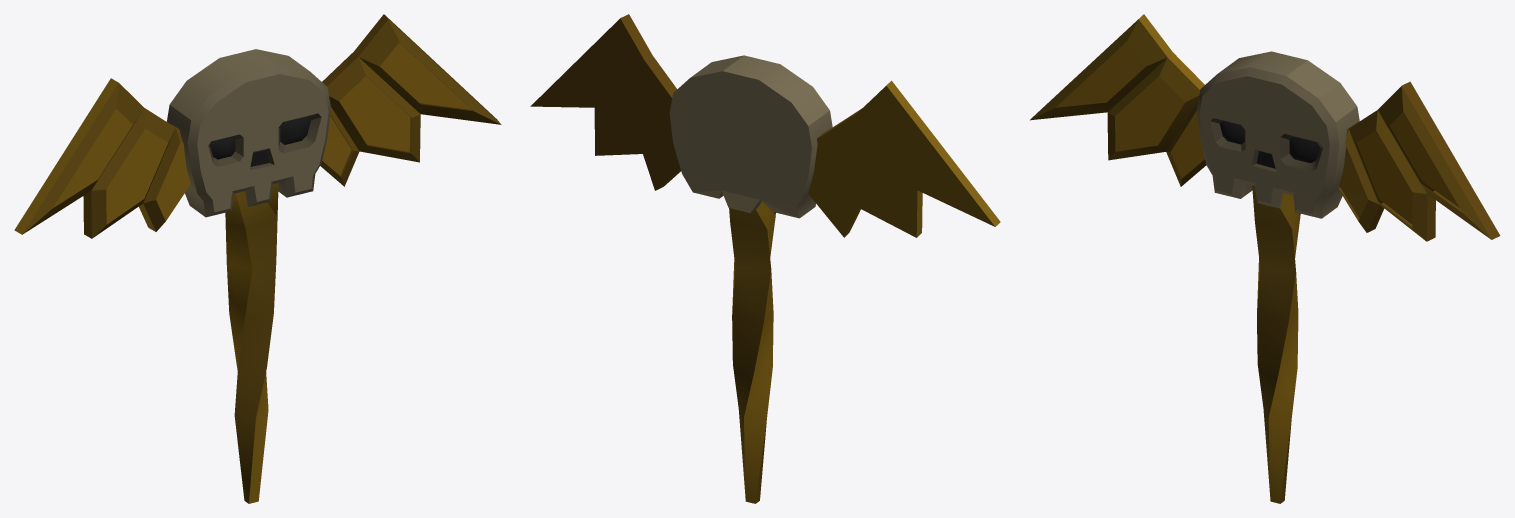
Rendered from skull_wand.fbx.
3 views of the same model, side by side, from view 1: azimuth 30°, elevation 25°; view 2: azimuth 150°, elevation 25°; view 3: azimuth 330°, elevation 25° (orthographic).
Visible parts, largest first — view 1: skull_wand_mesh; view 2: skull_wand_mesh; view 3: skull_wand_mesh.
Boxes of the visible parts, x1,y1,x2,y2 form: skull_wand_mesh: (14, 14, 501, 503); skull_wand_mesh: (530, 14, 1000, 503); skull_wand_mesh: (1030, 14, 1500, 503).
Bounding box in the file's own units: 1.09 × 0.9971 × 0.1298.
